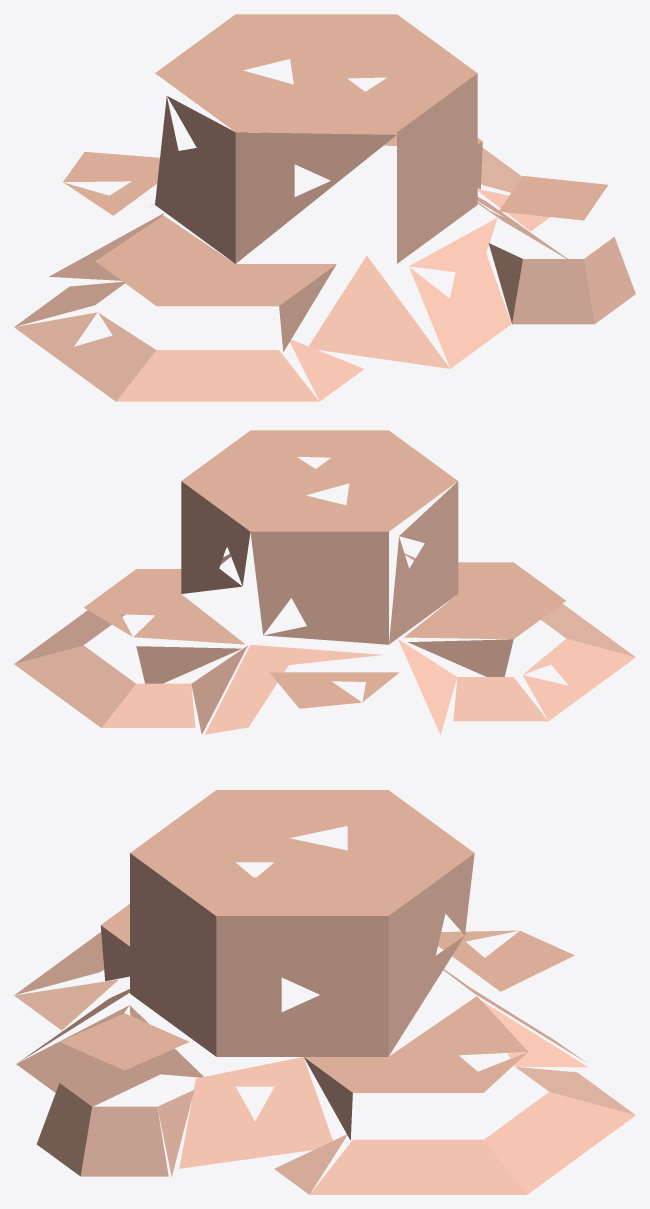
Rendered from rock_crystals_lod1.glb.
The picture shows the model from 3 angles, top to bottom: view 1: azimuth 30°, elevation 25°; view 2: azimuth 150°, elevation 25°; view 3: azimuth 270°, elevation 25°; orthographic projection. The views are drawn at different scales.
Parts seen in each view (by area): view 1: rock_crystals.001; view 2: rock_crystals.001; view 3: rock_crystals.001.
Boxes of the visible parts, x1,y1,x2,y2 form: rock_crystals.001: (14, 14, 635, 401); rock_crystals.001: (14, 430, 635, 734); rock_crystals.001: (14, 790, 635, 1194).
Size of the model in its own units: 0.8509 by 0.3039 by 0.8015.
